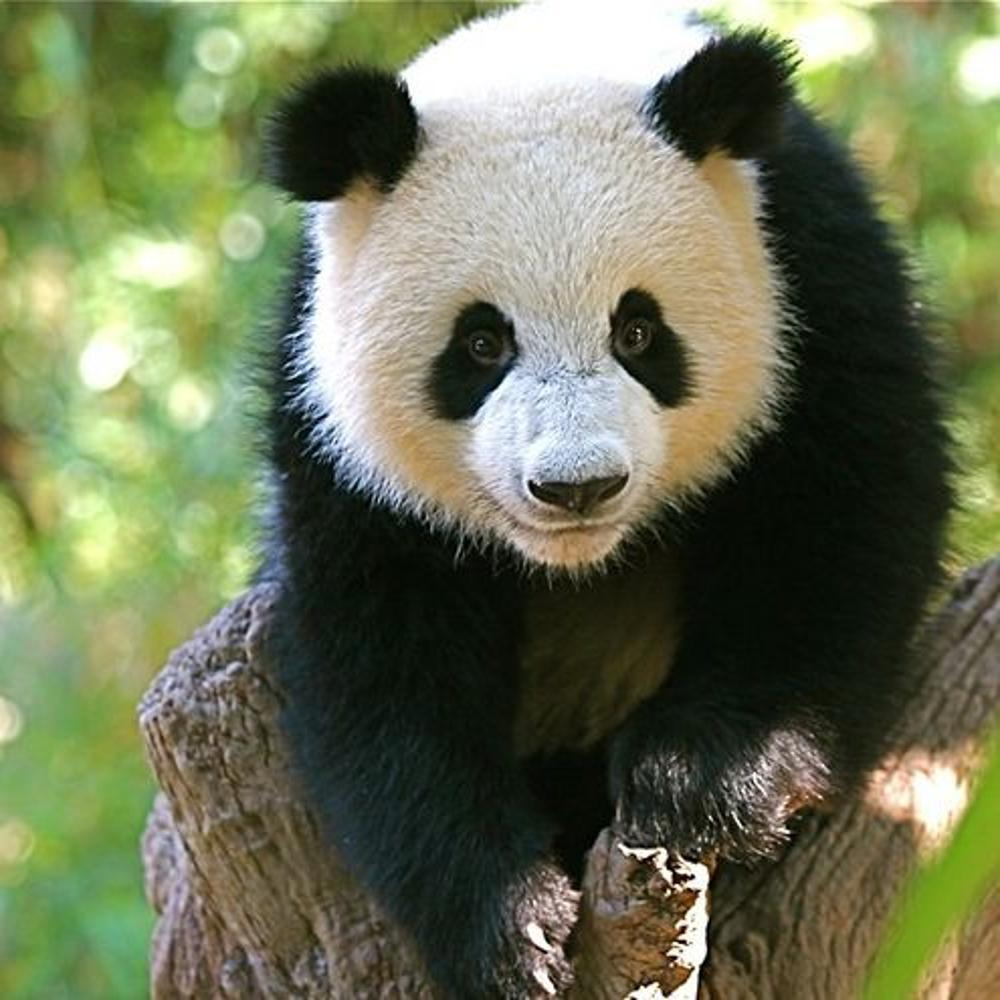panda: (254, 8, 960, 918)
